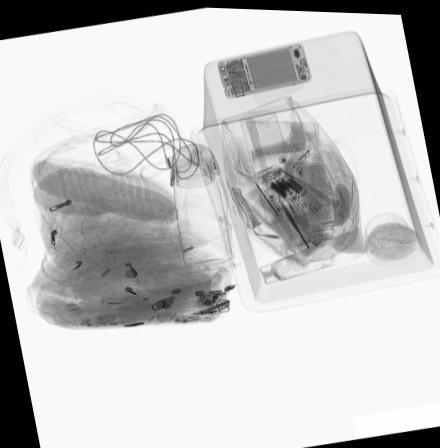Lighter: (286, 186, 336, 224)
